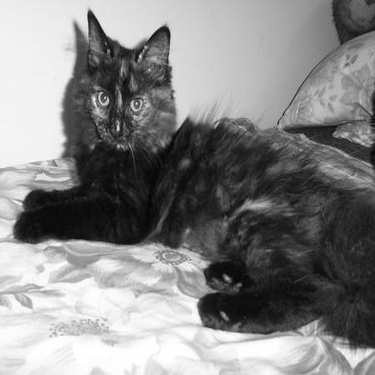cat: (14, 6, 367, 347)
